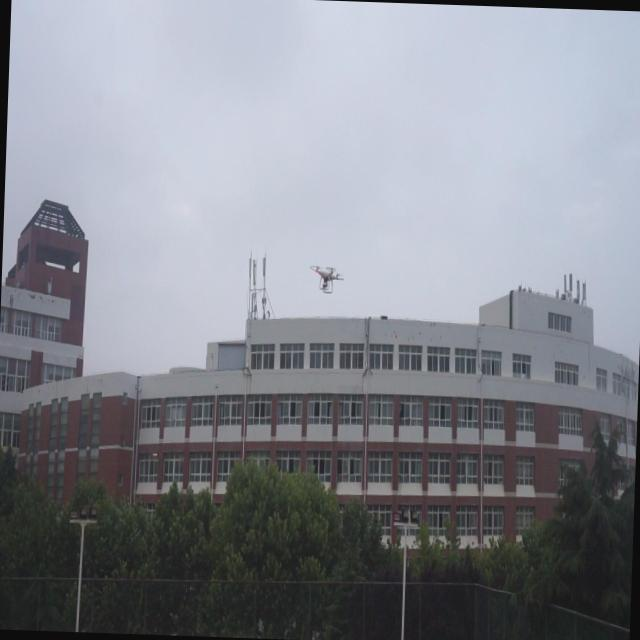drone: (306, 258, 346, 300)
